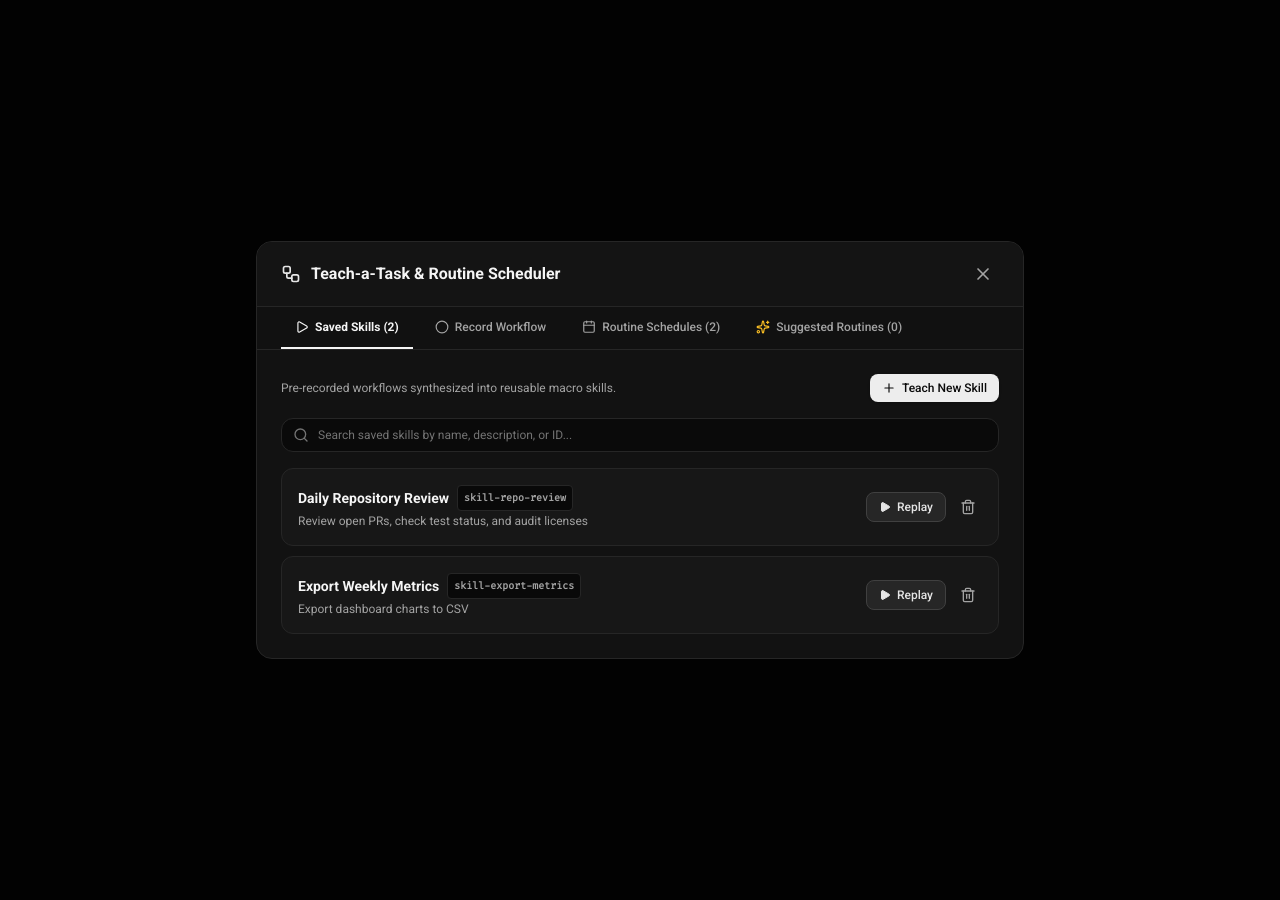
Test case: TeachTaskModal - Task Deletion & Lifecycle › deletion failure preserves UI state and displays error without optimistic removal
Expected: the text "Daily Repository Review" is shown, [298, 488, 449, 508]
Step 1. Click the button named "Delete task" in the row of "skill-repo-review" → (968, 507), box [954, 493, 982, 521]
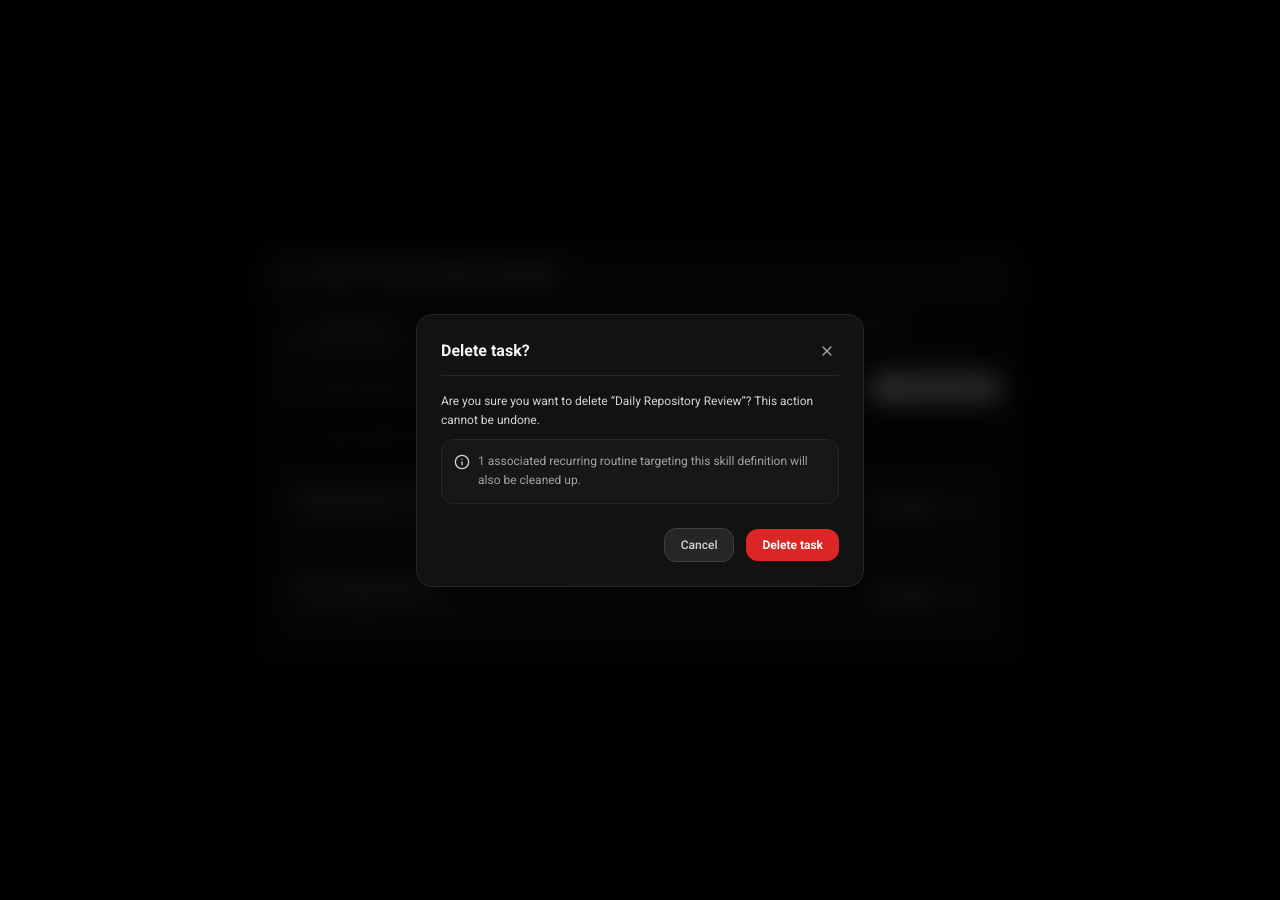
Step 2. Click the button "Delete task" → (793, 544), box [746, 528, 839, 560]
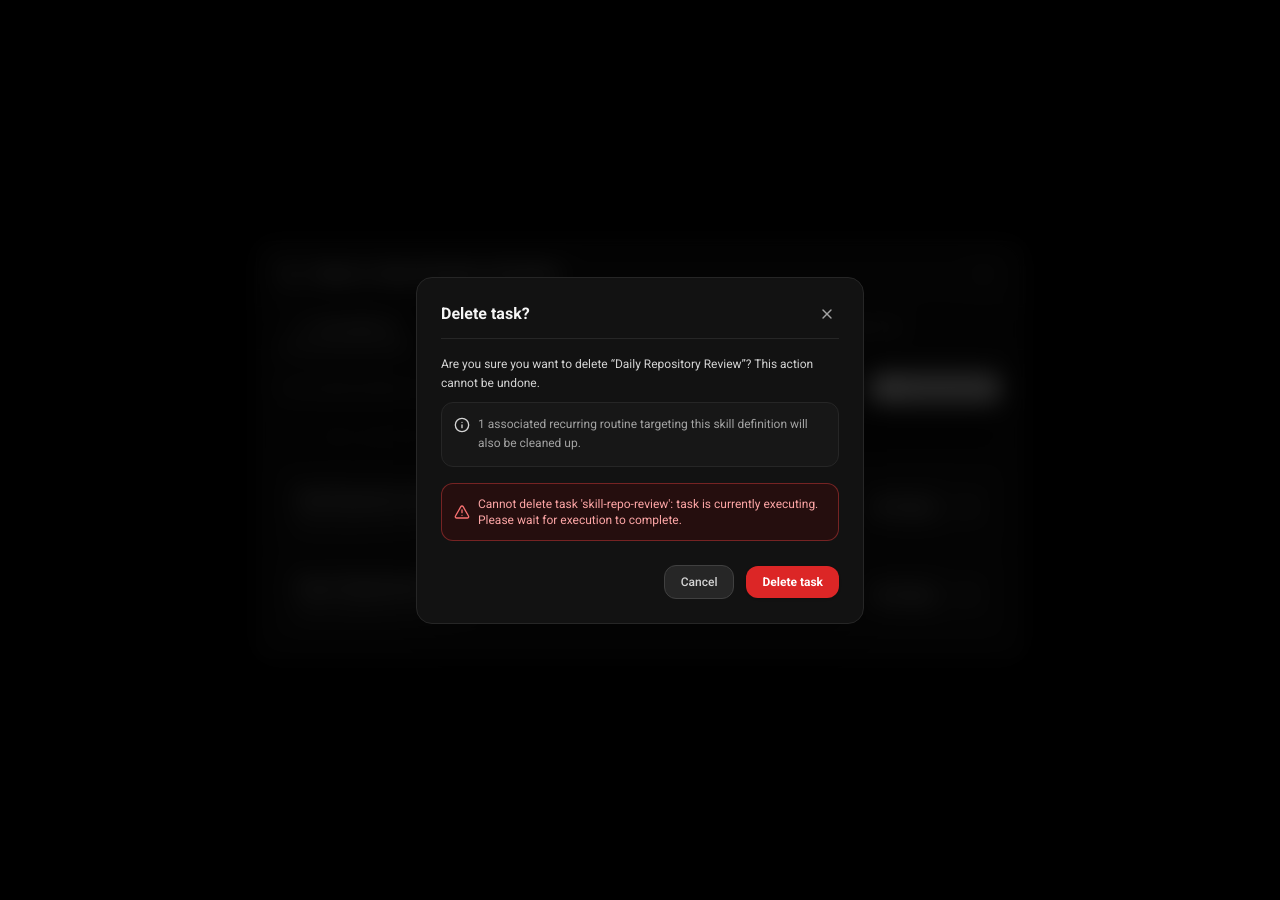
Expected: the text "Daily Repository Review" is shown, [298, 488, 449, 508]
Result: the heading "Delete task?" is shown at [441, 302, 530, 326]
Result: the text "Cannot delete task 'skill-repo-review': task is currently executing" is shown at [478, 496, 818, 526]
